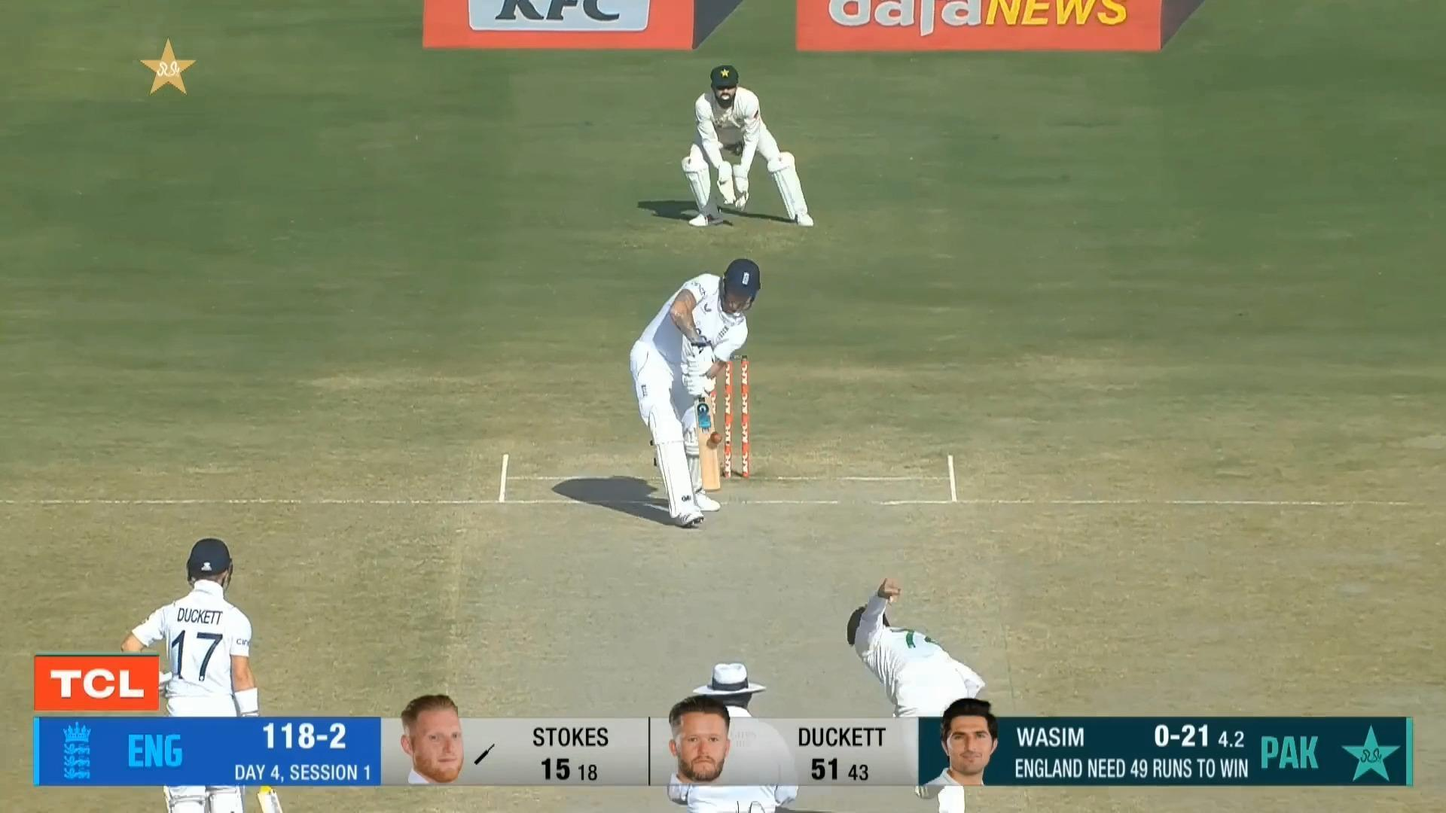BM 1: (116, 531, 273, 813), (627, 257, 764, 529)
BO: (838, 574, 990, 813)
